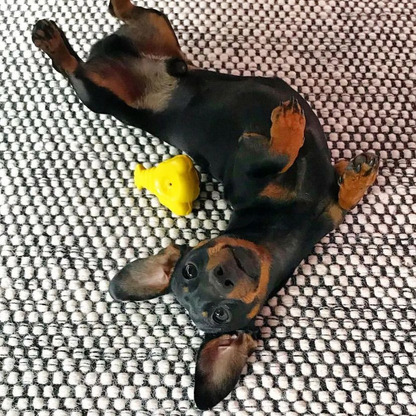dachshund: (40, 21, 368, 384)
